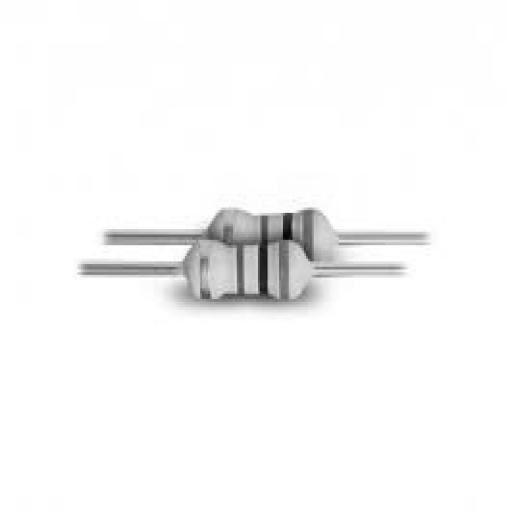RESISTOR: (136, 184, 365, 352)
